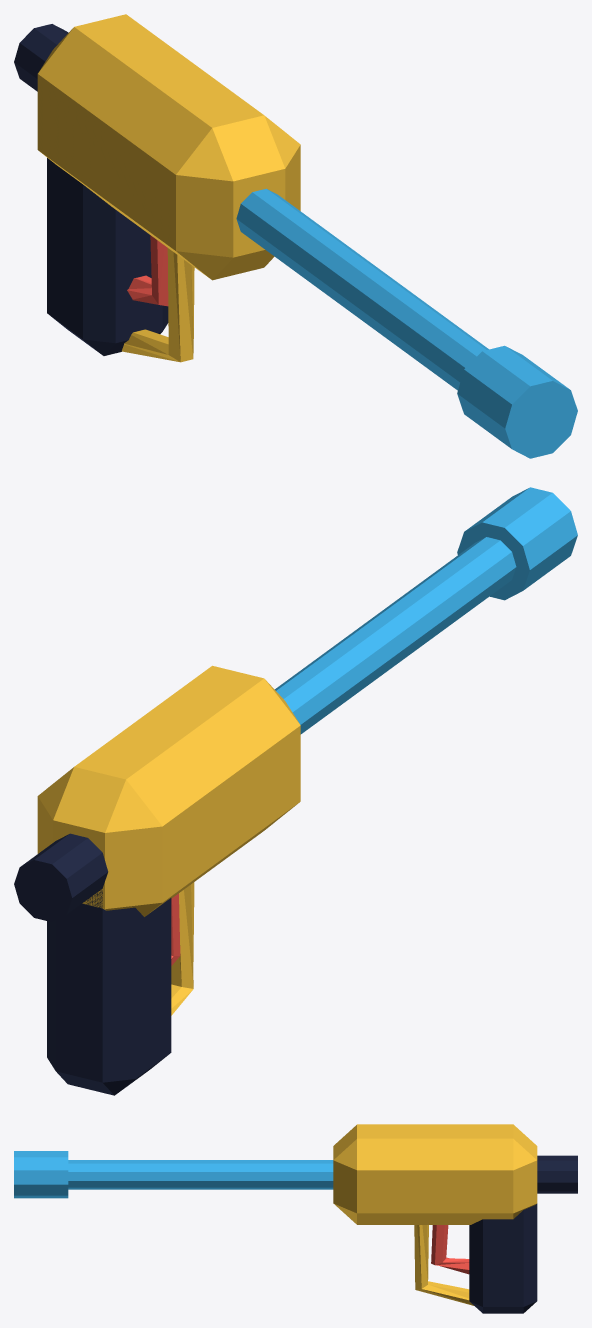
File: T_pressure_washer_gun.glb
3 renders of one model, top to bottom at view 1: azimuth 30°, elevation 25°; view 2: azimuth 150°, elevation 25°; view 3: azimuth 270°, elevation 25°, orthographic. The views are drawn at different scales.
Visible parts, largest first — view 1: GunBody, Grip, Wand, Nozzle, TriggerGuard, HoseConnector, Trigger; view 2: GunBody, Grip, Wand, Nozzle, HoseConnector, TriggerGuard; view 3: GunBody, Wand, Grip, Nozzle, HoseConnector, TriggerGuard, Trigger.
Boxes of the visible parts, x1,y1,x2,y2 form: GunBody: (37,14,300,280); Grip: (47,158,168,355); Wand: (236,188,488,390); Nozzle: (457,345,577,458); TriggerGuard: (121,248,194,362); HoseConnector: (14,24,68,91); Trigger: (127,235,168,306); GunBody: (37,665,300,916); Grip: (47,888,171,1095); Wand: (275,537,516,734); Nozzle: (457,487,577,600); HoseConnector: (14,833,108,921); TriggerGuard: (171,882,194,1015); GunBody: (333,1124,537,1224); Wand: (68,1160,333,1189); Grip: (469,1204,537,1313); Nozzle: (14,1151,68,1198); HoseConnector: (537,1155,577,1193); TriggerGuard: (414,1225,473,1305); Trigger: (431,1225,469,1274).
Size of the model in its own units: 0.12 by 0.2851 by 0.83.
